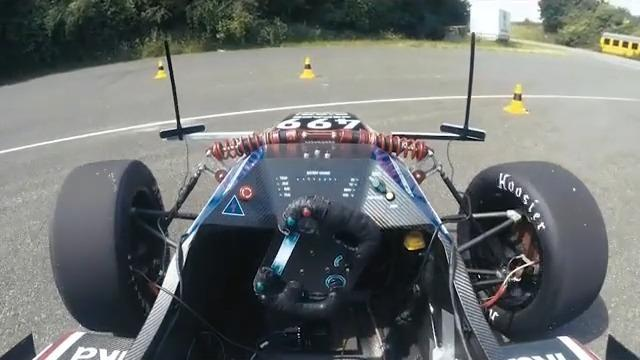yellow_cone: (504, 79, 529, 114), (293, 53, 323, 76), (151, 56, 172, 78)
